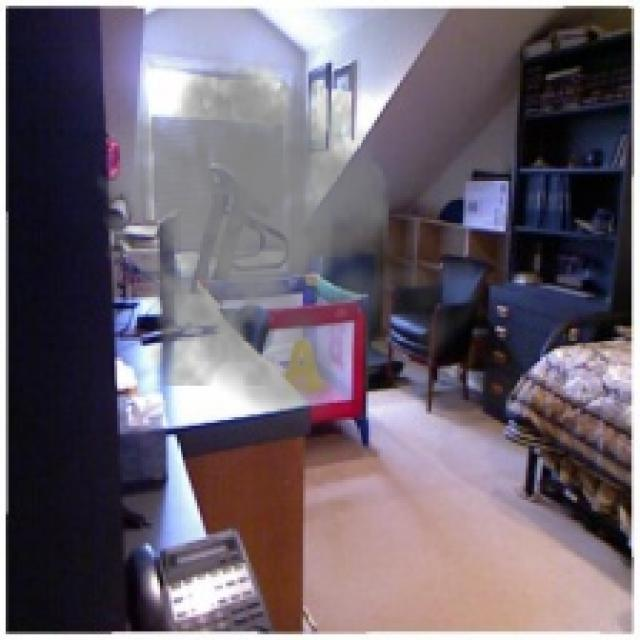Smoke: (94, 37, 494, 434)
